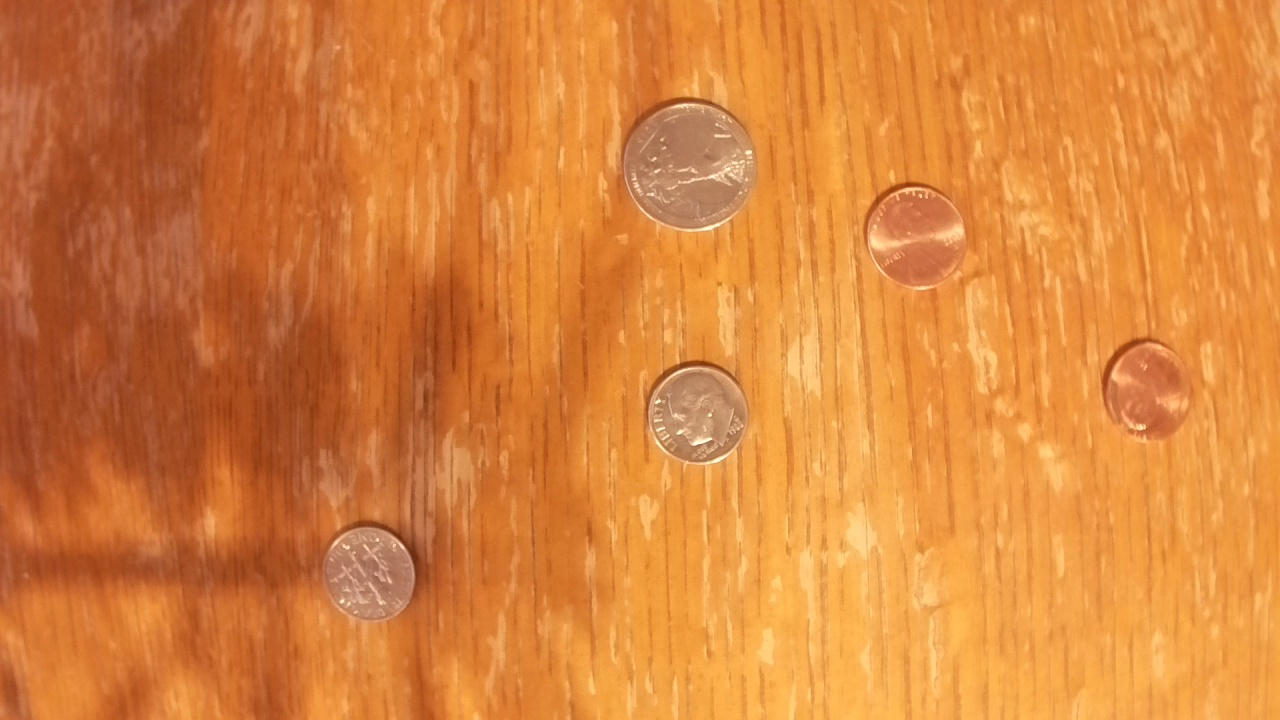dime: (642, 360, 754, 472), (319, 520, 421, 626)
penny: (860, 178, 970, 296), (1100, 335, 1194, 439)
quarter: (616, 94, 760, 238)
